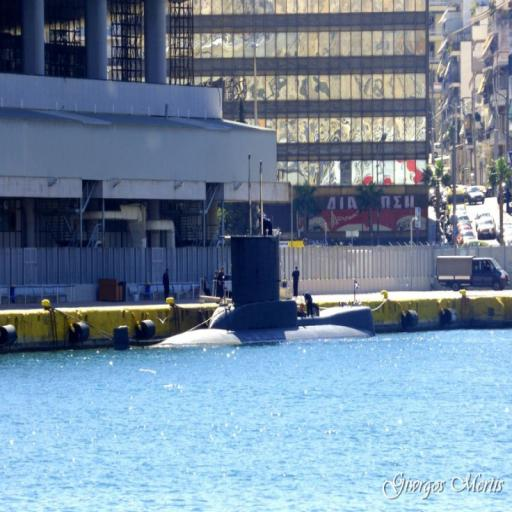submarine: (148, 231, 383, 351)
